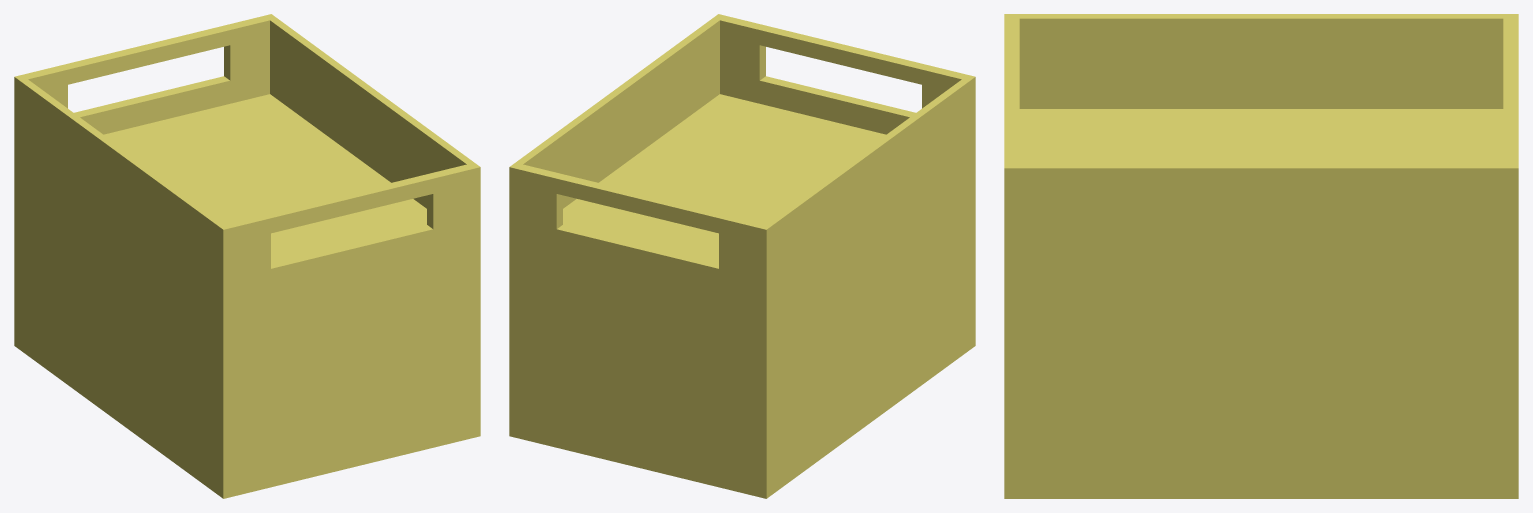
File: CaixaPapelao.fbx
The picture shows the model from 3 angles, left to right: view 1: azimuth 30°, elevation 25°; view 2: azimuth 150°, elevation 25°; view 3: azimuth 270°, elevation 25°; orthographic projection. The views are drawn at different scales.
Visible parts, largest first — view 1: CaixaA; view 2: CaixaA; view 3: CaixaA.
Boxes of the visible parts, x1=… form: CaixaA: x1=14, y1=14, x2=480, y2=498; CaixaA: x1=509, y1=14, x2=975, y2=498; CaixaA: x1=1004, y1=14, x2=1518, y2=498.
Size of the model in its own units: 23.29 by 23.29 by 32.8.
